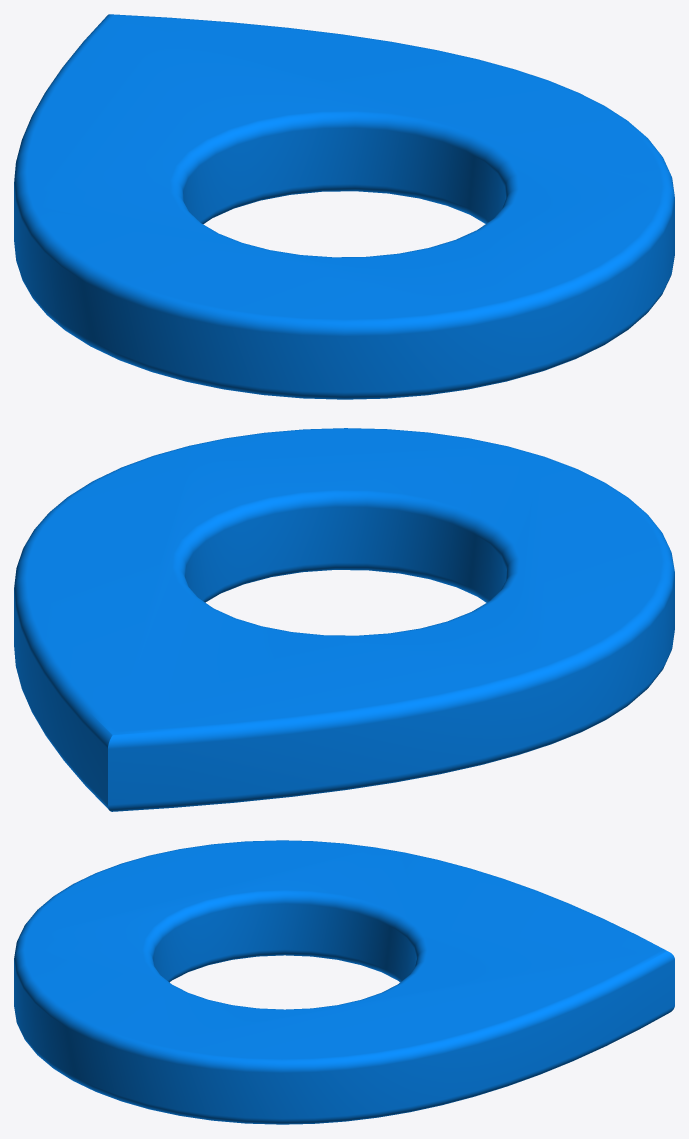
Rendered from poi_blue1.glb.
3 views of the same model, one above another, from view 1: azimuth 30°, elevation 25°; view 2: azimuth 150°, elevation 25°; view 3: azimuth 270°, elevation 25° (orthographic). The views are drawn at different scales.
Parts seen in each view (by area): view 1: 形状; view 2: 形状; view 3: 形状.
Boxes of the visible parts, x1,y1,x2,y2 form: 形状: (14,14,674,399); 形状: (14,428,674,811); 形状: (14,840,674,1124).
Size of the model in its own units: 2.53 by 0.3358 by 3.11.
